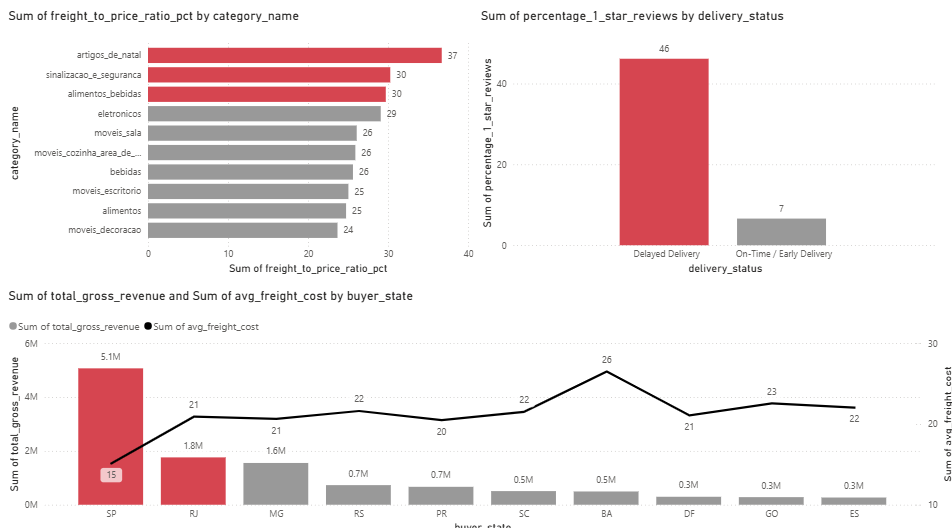

The page's visual inventory and layout, read from the dashboard file:
{"tool":"powerbi","page":{"name":"Page 1","canvas":[1280,720],"ordinal":0},"visuals":[{"type":"clusteredBarChart","fields":{"Y":["Sum(01_margin_leakage_audit.freight_to_price_ratio_pct)"],"Category":["01_margin_leakage_audit.category_name"]},"box":[10,0,630,377.5],"z":0},{"type":"clusteredColumnChart","fields":{"Category":["02_Impact_of_Delivery_Delays_on_Customer_Satisfaction.delivery_status"],"Y":["Sum(02_Impact_of_Delivery_Delays_on_Customer_Satisfaction.percentage_1_star_reviews)"]},"box":[640,0,617.5,360],"z":1000},{"type":"lineStackedColumnComboChart","fields":{"Category":["03_Geographic_Supply_&_Demand_Concentration_Analysis.buyer_state"],"Y":["Sum(03_Geographic_Supply_&_Demand_Concentration_Analysis.total_gross_revenue)"],"Y2":["Sum(03_Geographic_Supply_&_Demand_Concentration_Analysis.avg_freight_cost)"]},"box":[10,388,1270,332],"z":1001}]}

Visuals, with their boxes in screenshot pixels (x1, y1, x2, y2), scaled from the page's 1280x720 canvas onto the 952x528 screenshot:
clusteredBarChart - Sum(01_margin_leakage_audit.freight_to_price_ratio_pct) x 01_margin_leakage_audit.category_name: rect(7, 0, 476, 277)
clusteredColumnChart - 02_Impact_of_Delivery_Delays_on_Customer_Satisfaction.delivery_status x Sum(02_Impact_of_Delivery_Delays_on_Customer_Satisfaction.percentage_1_star_reviews): rect(476, 0, 935, 264)
lineStackedColumnComboChart - 03_Geographic_Supply_&_Demand_Concentration_Analysis.buyer_state x Sum(03_Geographic_Supply_&_Demand_Concentration_Analysis.total_gross_revenue): rect(7, 285, 951, 527)
